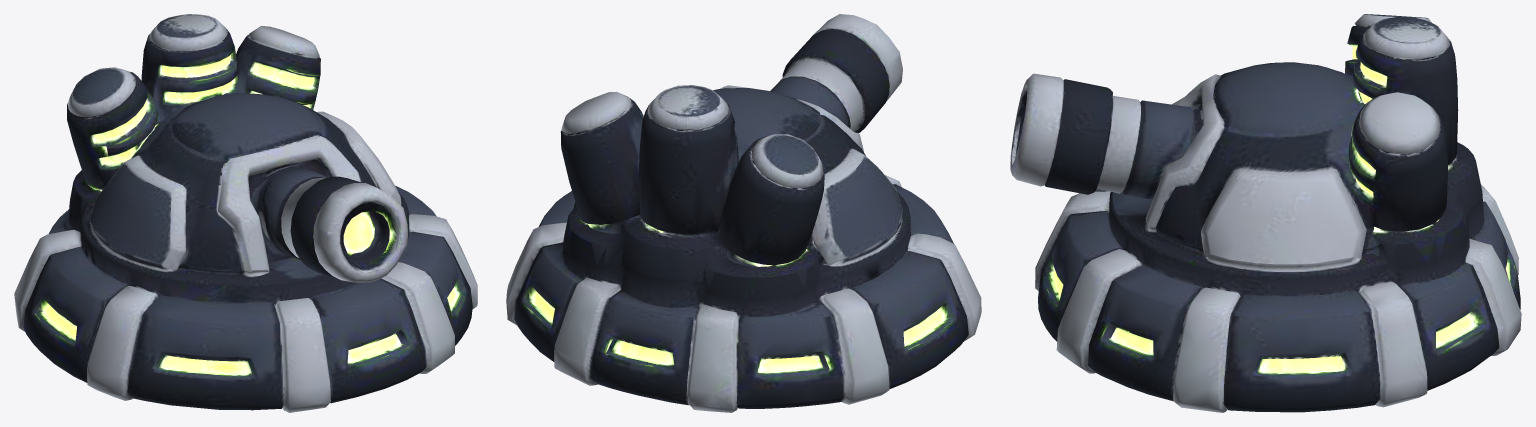
The model's file is warrior-6-tier-1.glb.
3 views of the same model, side by side, from view 1: azimuth 30°, elevation 25°; view 2: azimuth 150°, elevation 25°; view 3: azimuth 270°, elevation 25° (orthographic). The views are drawn at different scales.
Visible parts, largest first — view 1: moving-assembly, fixed-platform; view 2: fixed-platform, moving-assembly; view 3: moving-assembly, fixed-platform.
Part boxes in pixels (<box>): moving-assembly: <box>67,14,408,282</box>; fixed-platform: <box>14,183,477,412</box>; fixed-platform: <box>506,175,981,412</box>; moving-assembly: <box>560,14,902,290</box>; moving-assembly: <box>1010,14,1482,264</box>; fixed-platform: <box>1035,184,1521,412</box>.
Bounding box in the file's own units: 1.54 × 0.9726 × 1.58.
Materials: 1 (1 with a texture image).
